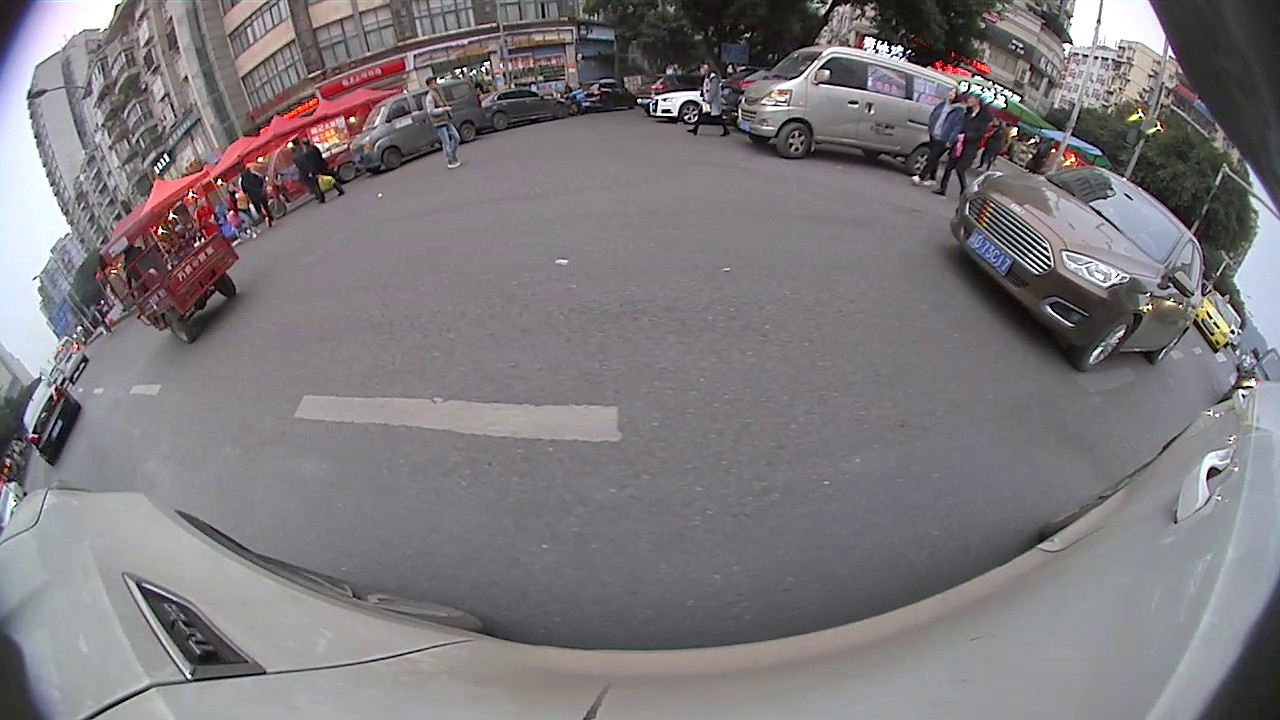car: (948, 162, 1205, 373), (739, 29, 966, 179), (349, 74, 491, 173), (13, 376, 84, 466), (473, 84, 578, 132), (1194, 284, 1235, 359), (47, 329, 90, 385)
front: (1073, 310, 1139, 375), (776, 121, 815, 159), (162, 309, 195, 348), (383, 144, 405, 172), (680, 102, 704, 127)
person: (923, 81, 966, 192), (951, 88, 994, 191), (422, 74, 463, 169), (701, 56, 730, 137)
rear: (905, 143, 939, 180)
rider: (96, 207, 247, 348)
